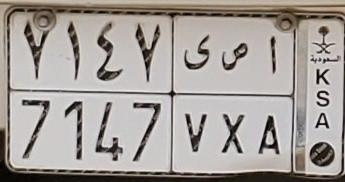1: (64, 19, 86, 161)
4: (94, 20, 124, 163)
7: (131, 22, 161, 161), (21, 20, 50, 160)
A: (257, 35, 280, 155)
V: (183, 34, 212, 153)
X: (222, 42, 249, 154)
